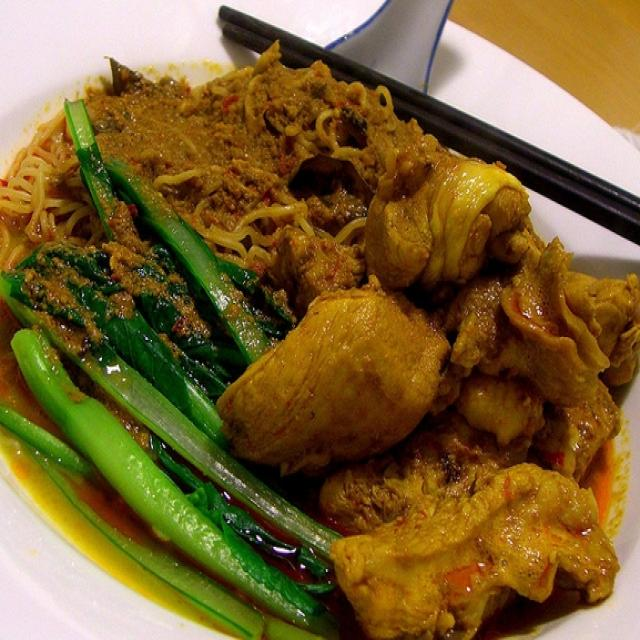面条主食: (3, 5, 631, 634)
